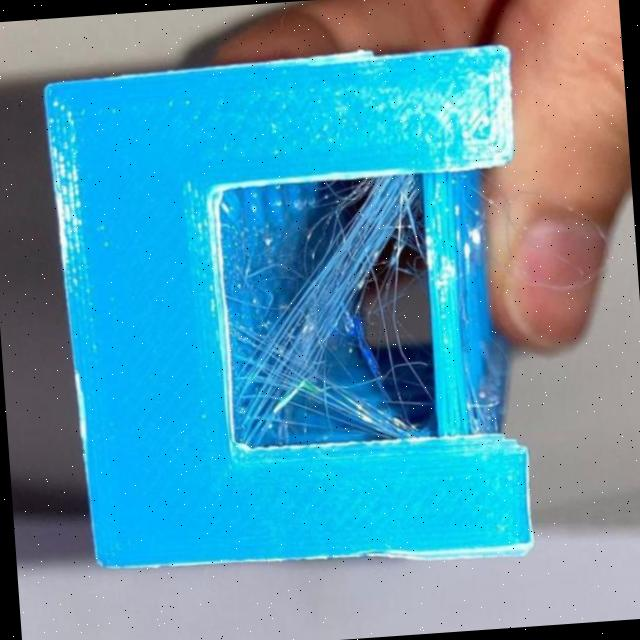stringing: (230, 179, 417, 440), (237, 325, 409, 439)
